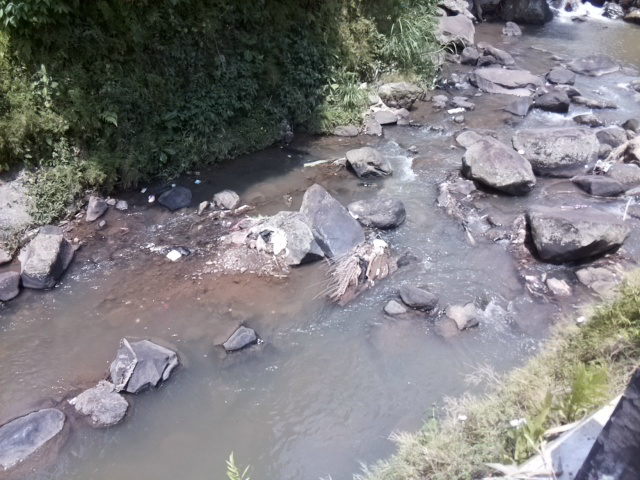Sampah_Styrofoam: (165, 249, 183, 264)
